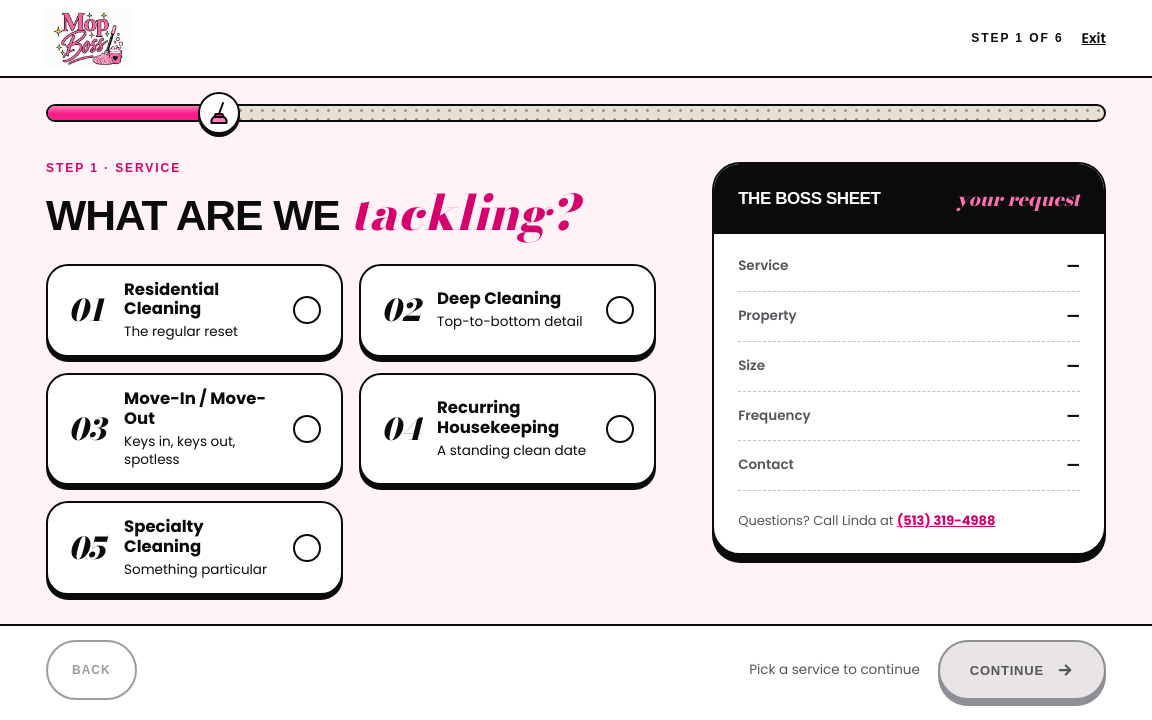
it: QuoteFlow › preserves answers when going back
Click the button "03 Move-In / Move-Out Keys in, keys out, spotless" at (195, 429), box [46, 373, 343, 485]
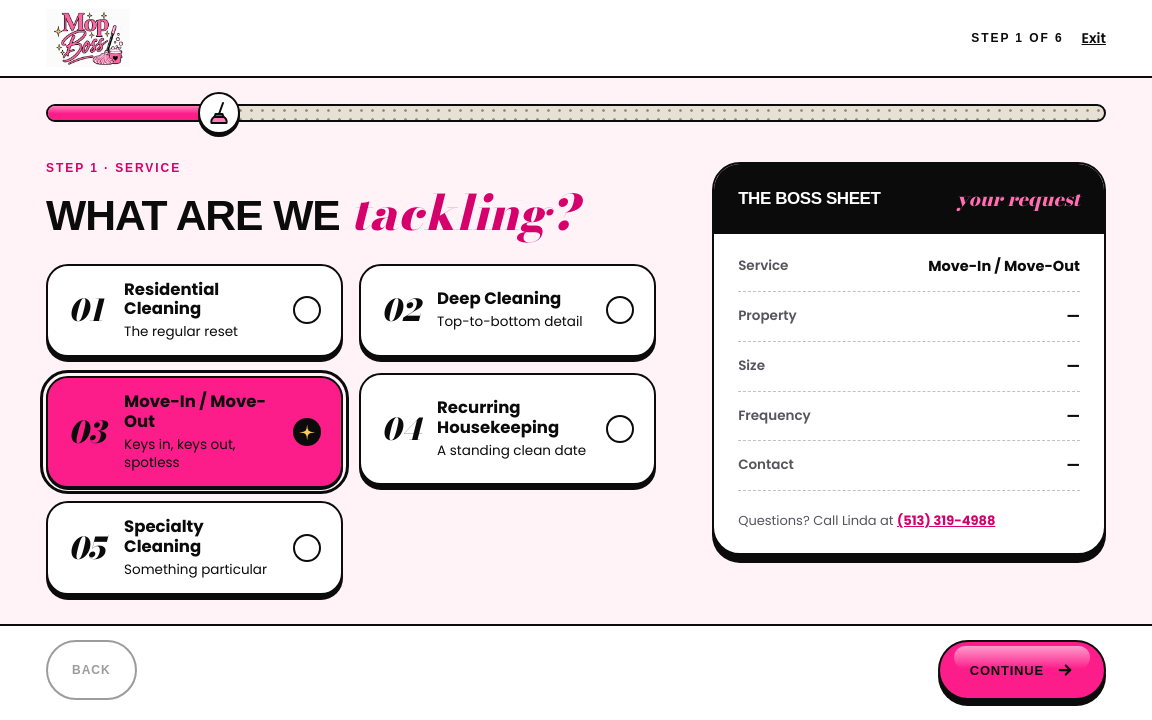
Click the button "Continue" at (1022, 670), box [938, 640, 1106, 700]
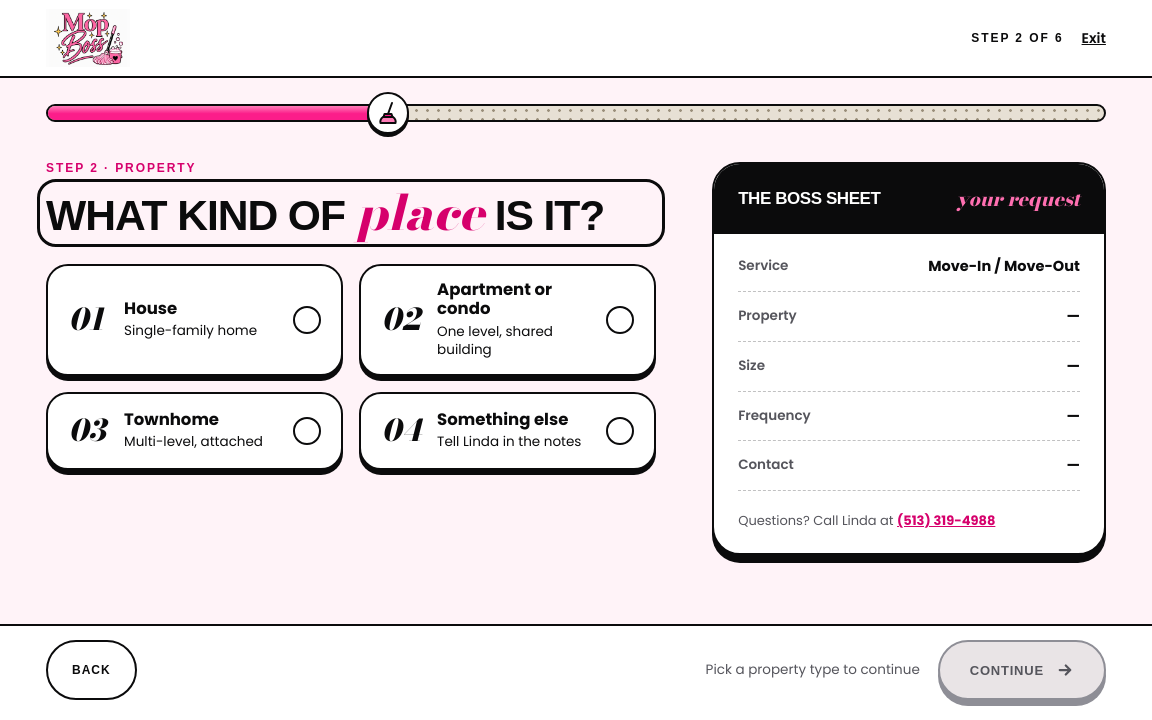
Click the button "03 Townhome Multi-level, attached" at (195, 431), box [46, 392, 343, 470]
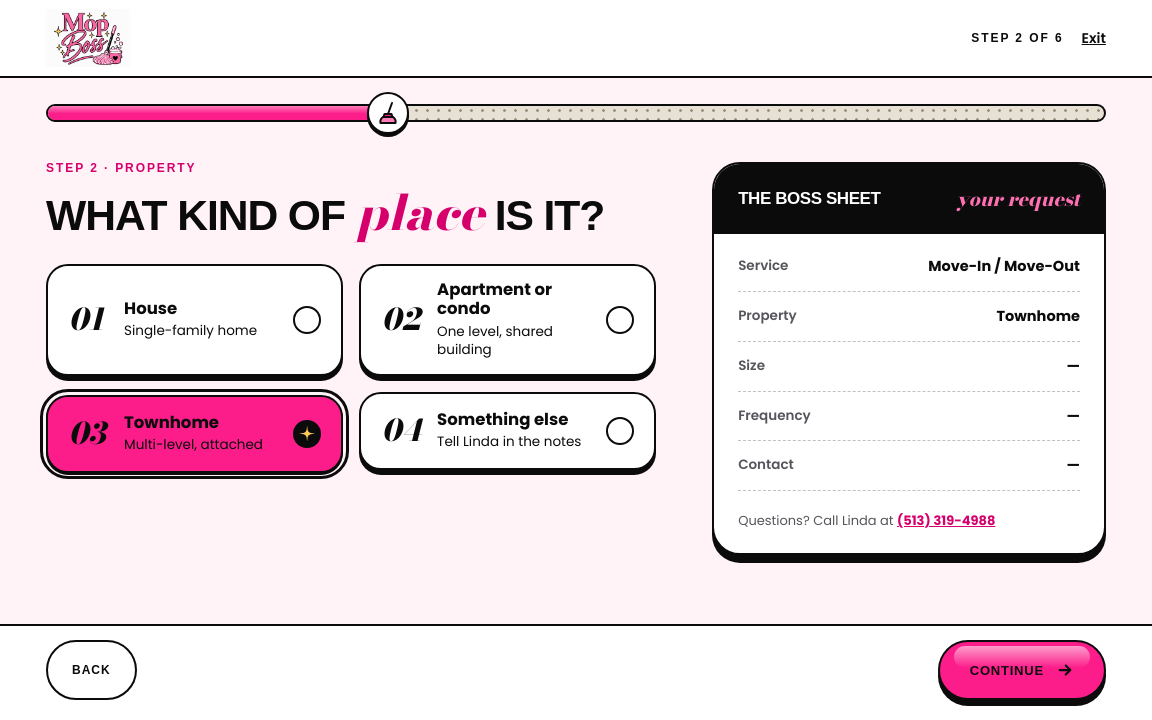
Click the button "Back" at (91, 670), box [46, 640, 137, 700]
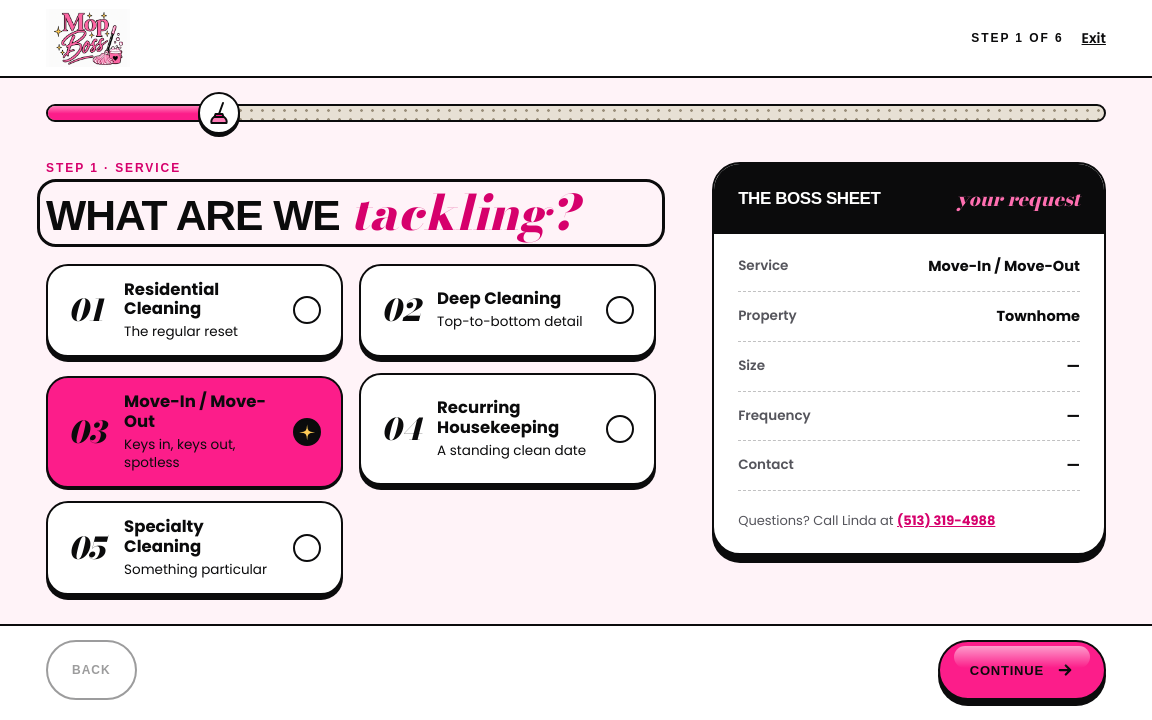
Now the button "03 Move-In / Move-Out Keys in, keys out, spotless" is pressed, box [46, 376, 343, 488]
Click the button "Continue" at (1022, 670), box [938, 640, 1106, 700]
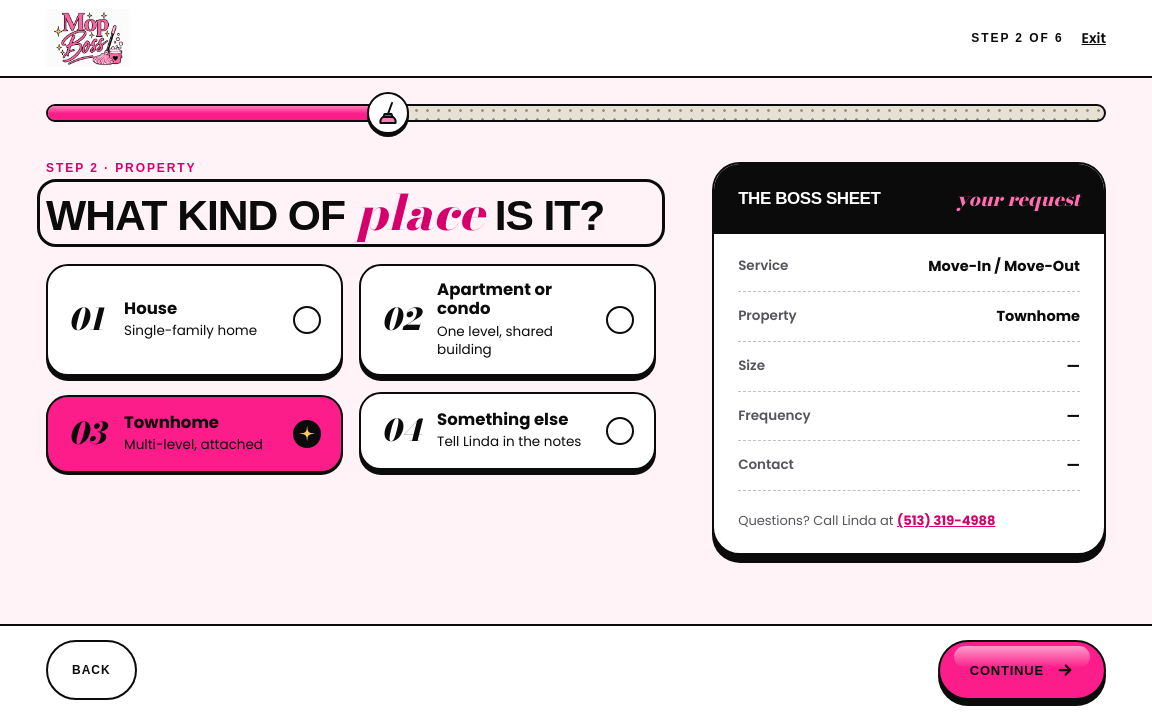
Now the button "03 Townhome Multi-level, attached" is pressed, box [46, 395, 343, 473]
